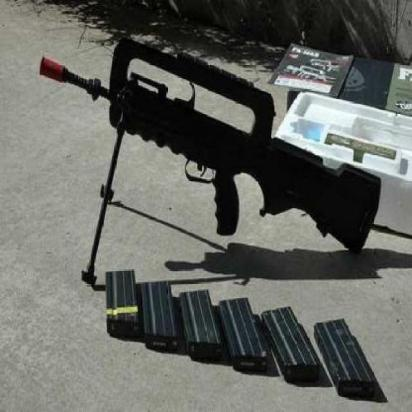Gun: (31, 21, 387, 276)
